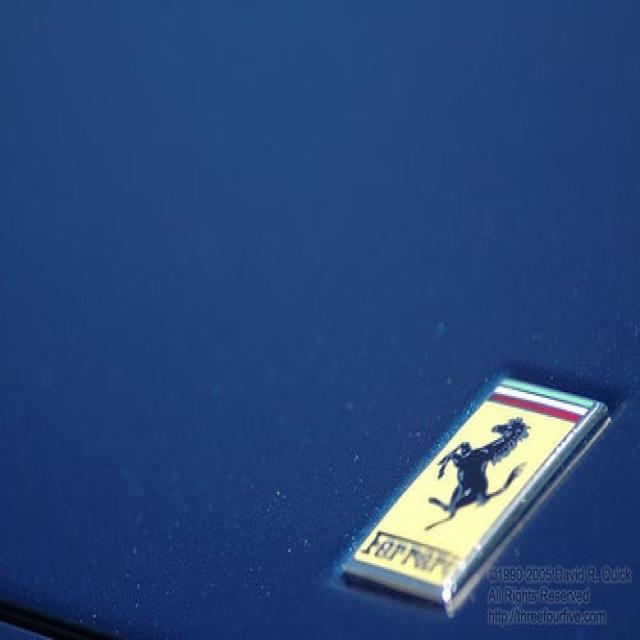ferrari: (353, 378, 596, 595)
